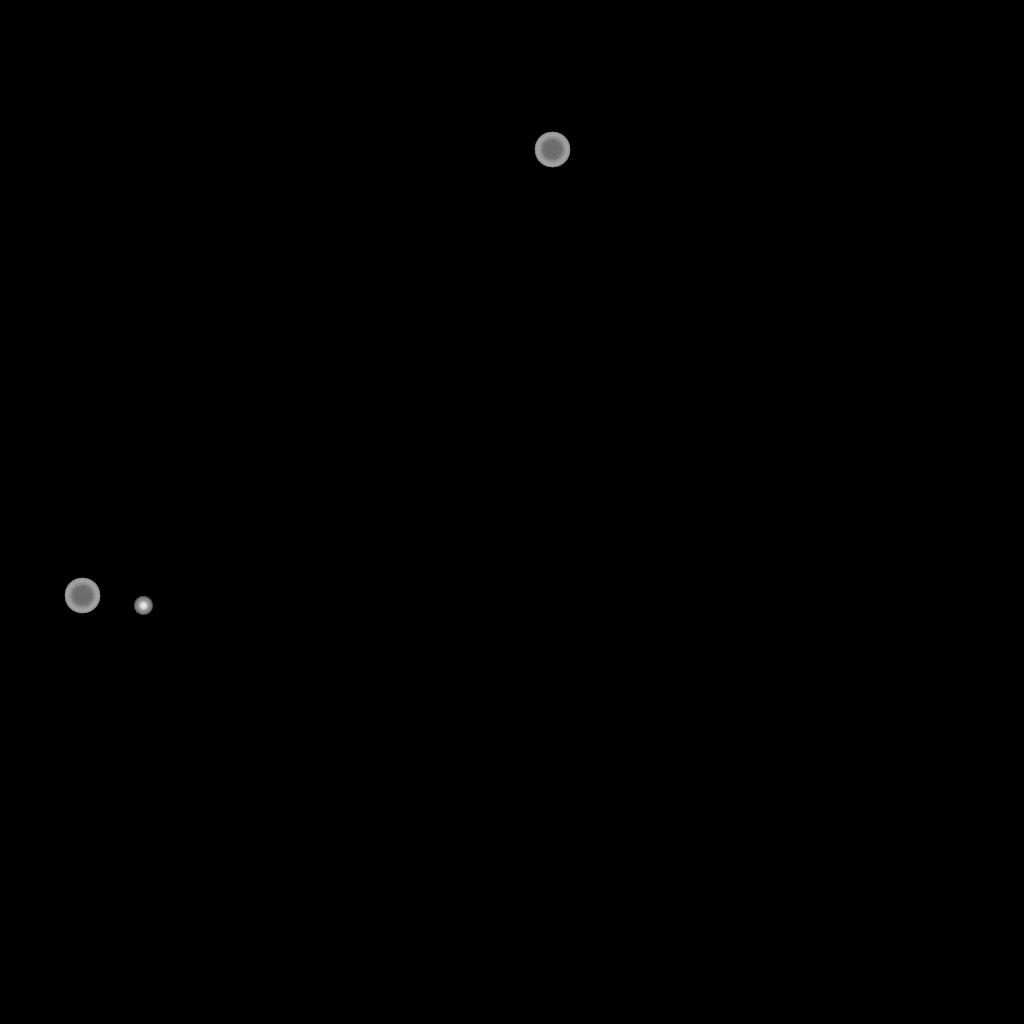depth:-20: (134, 597, 152, 615)
depth:-60: (64, 578, 100, 614), (534, 132, 570, 168)
